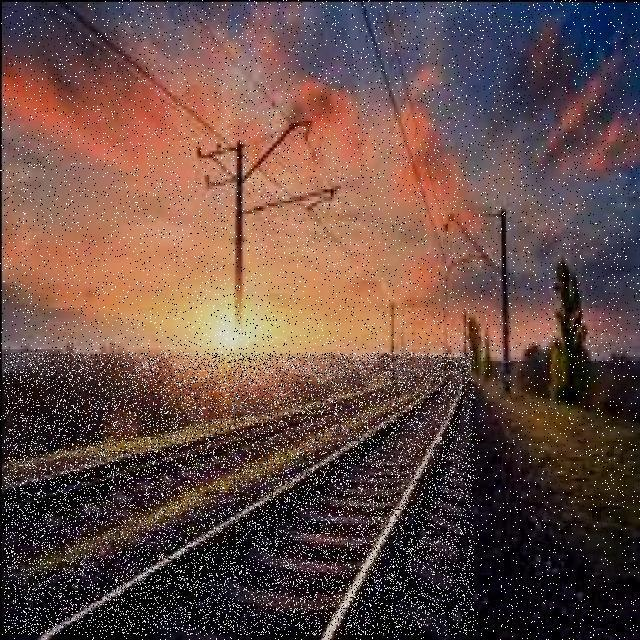rail: (4, 353, 474, 635)
